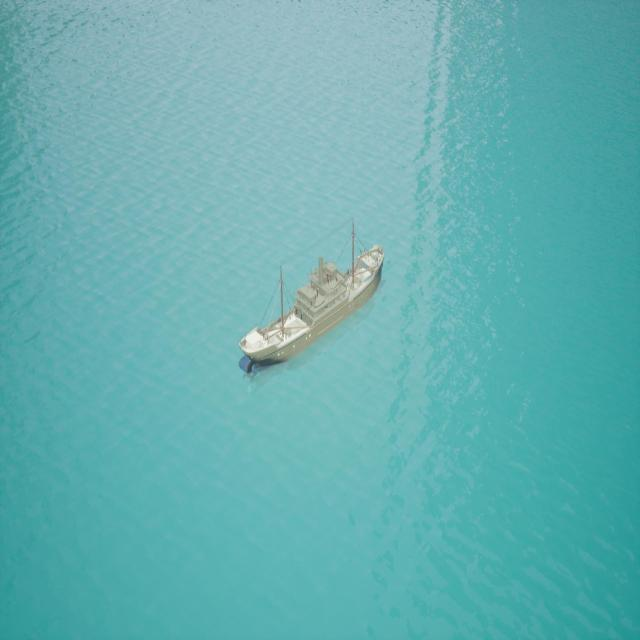fishing ship: (240, 235, 385, 376)
